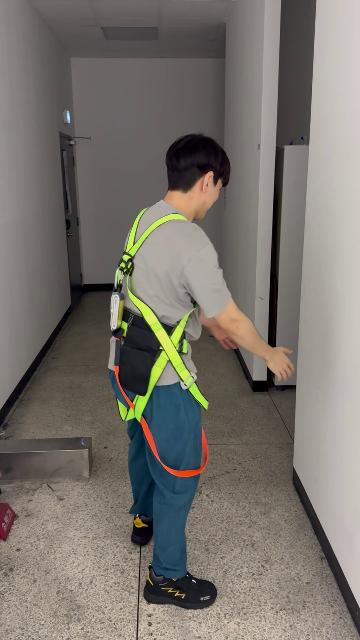helmet_not_worn: (164, 131, 231, 214)
shoe_worn: (144, 566, 217, 609), (130, 512, 154, 545)
vest_worn: (108, 214, 215, 474)
